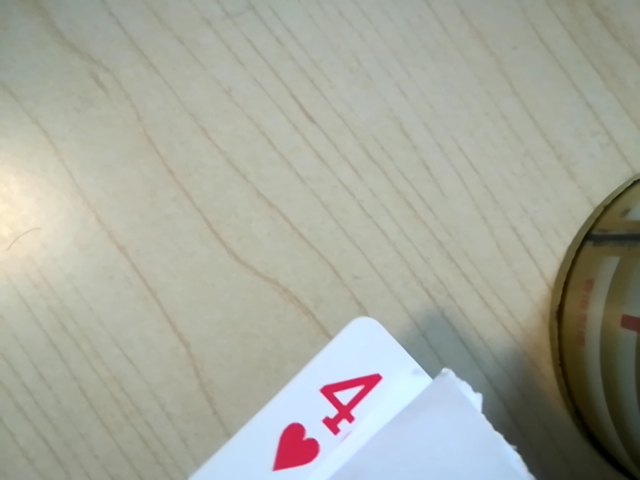hx 4: (280, 368, 395, 461)
